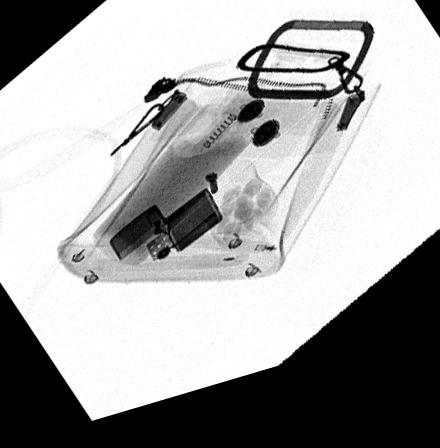Lighter: (109, 197, 224, 271)
